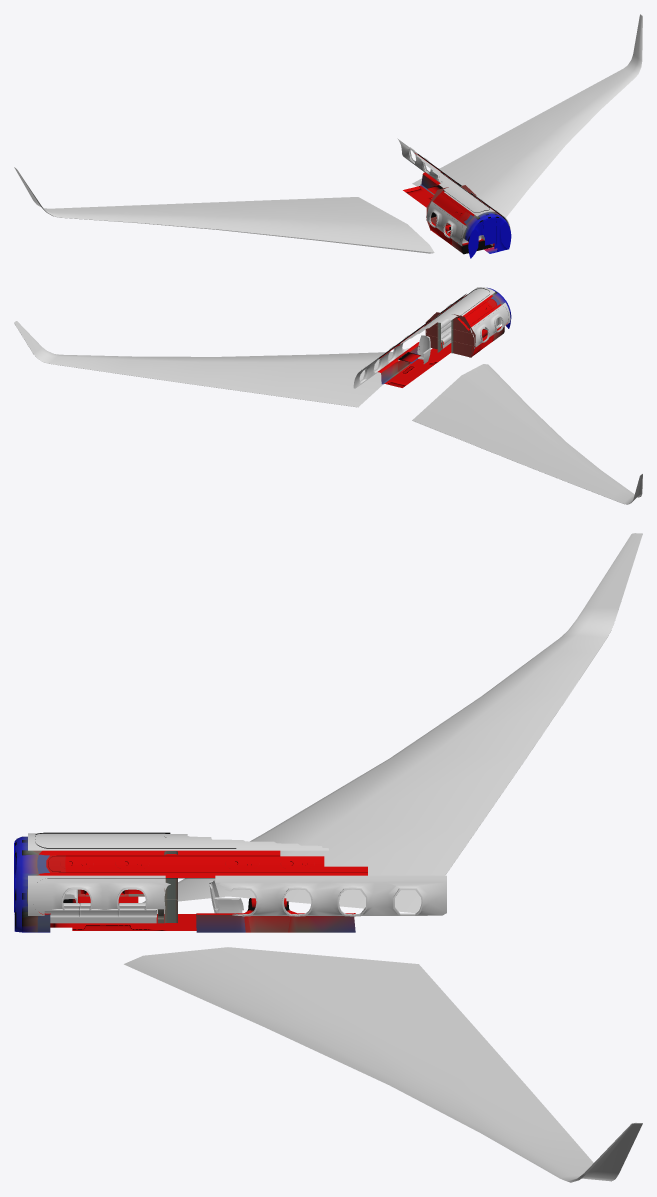
The model's file is Cabin_export_0003.fbx.
3 renders of one model, top to bottom at view 1: azimuth 30°, elevation 25°; view 2: azimuth 150°, elevation 25°; view 3: azimuth 270°, elevation 25°, orthographic. The views are drawn at different scales.
Parts seen in each view (by area): view 1: wings (2), interior fittings, fuselage (4); view 2: wings (2), interior fittings, fuselage (4), interior bulkheads (2); view 3: wings (2), interior fittings, fuselage (4), sofas (2).
Boxes of the visible parts, x1,y1,x2,y2 form: wings (2): (14,14,642,253); interior fittings: (403,153,511,258); fuselage (4): (397,138,510,246); wings (2): (14,321,642,504); interior fittings: (378,287,511,387); fuselage (4): (353,287,510,388); interior bulkheads (2): (425,312,475,357); wings (2): (124,533,642,1182); interior fittings: (14,832,367,932); fuselage (4): (28,833,446,916); sofas (2): (44,903,156,923).
Size of the model in its own units: 3486 by 329 by 1570.
